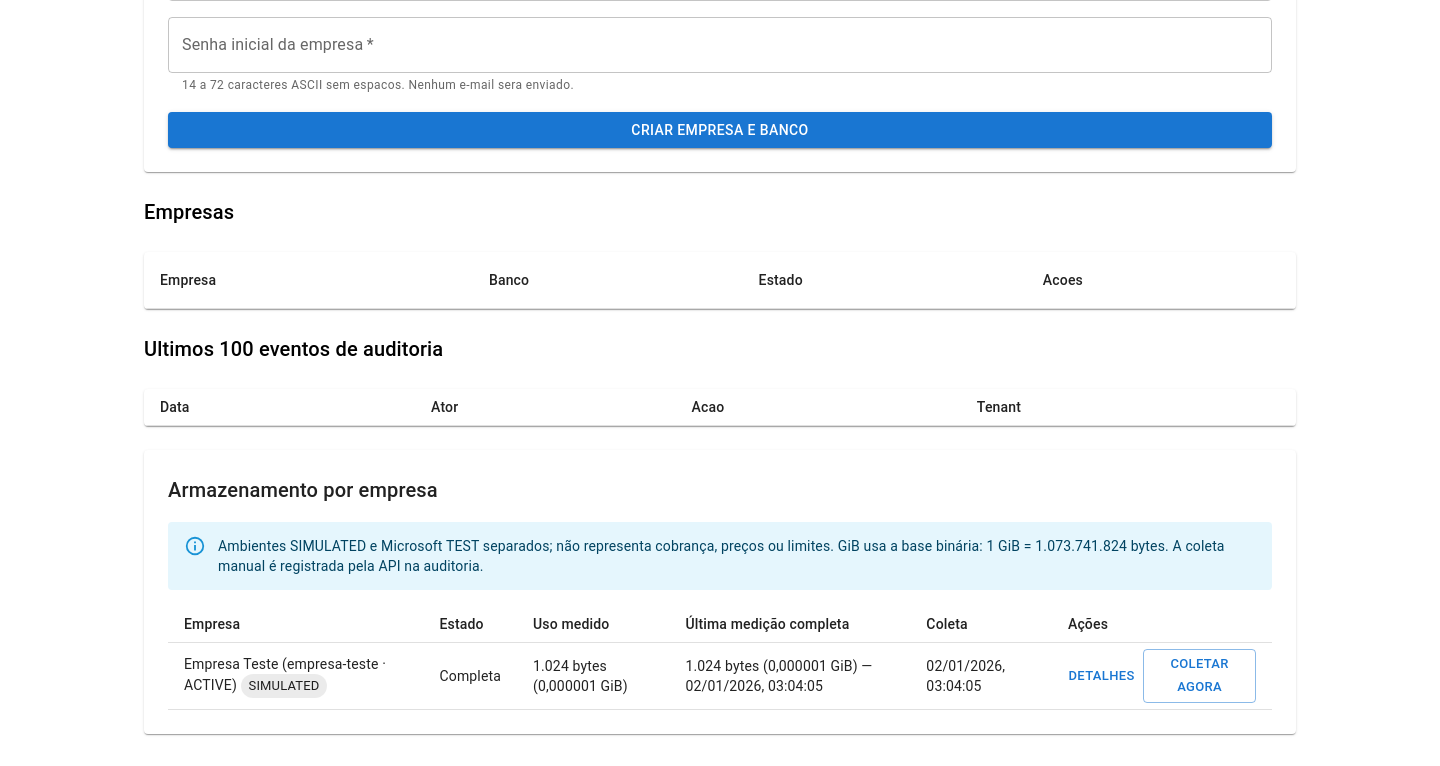
Scenario: warns when a manual collection returns a partial summary instead of reporting success
(page scrolled)
Click the button "Coletar agora": (1200, 676) [1143,649,1256,703]
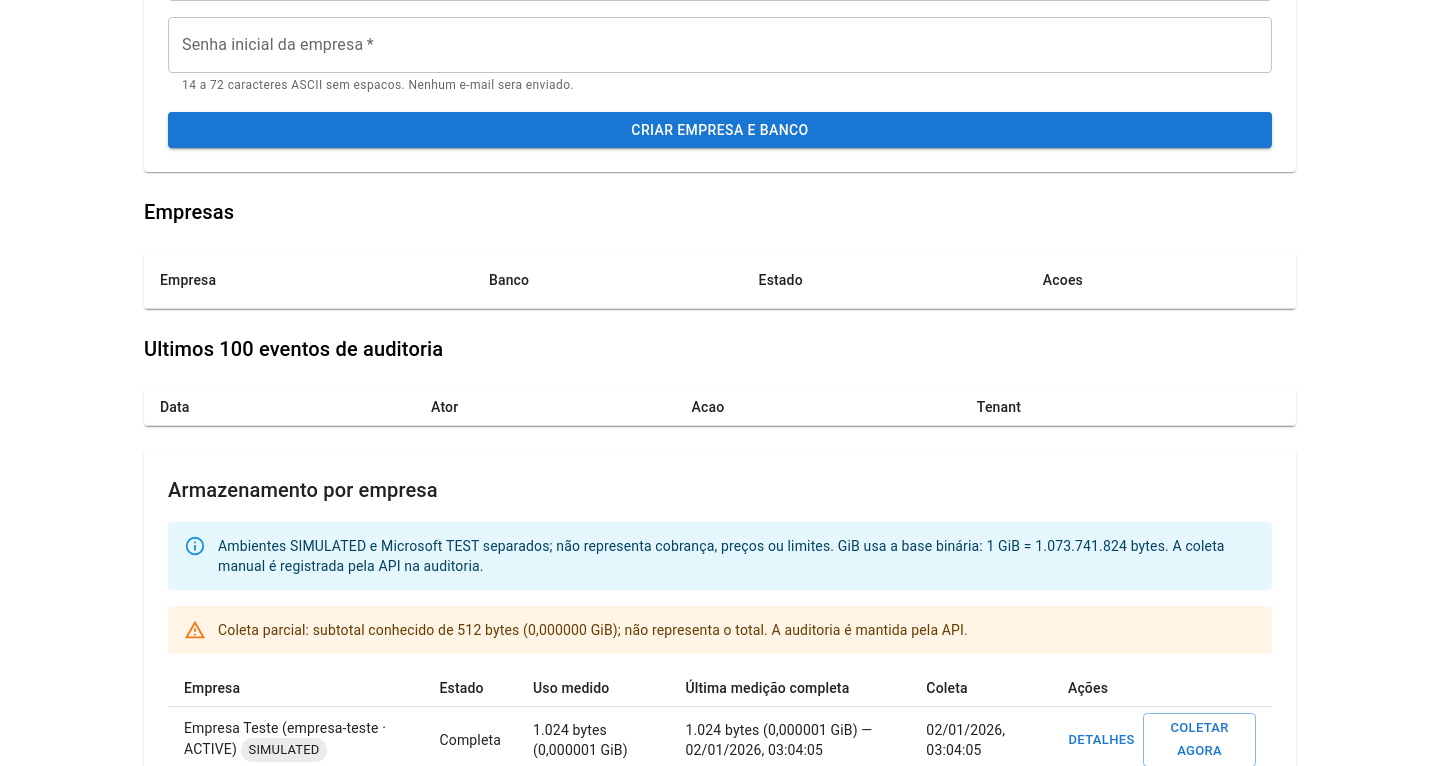
Now the text "Coleta parcial: subtotal conhecido" is shown, box [218,622,968,638]
